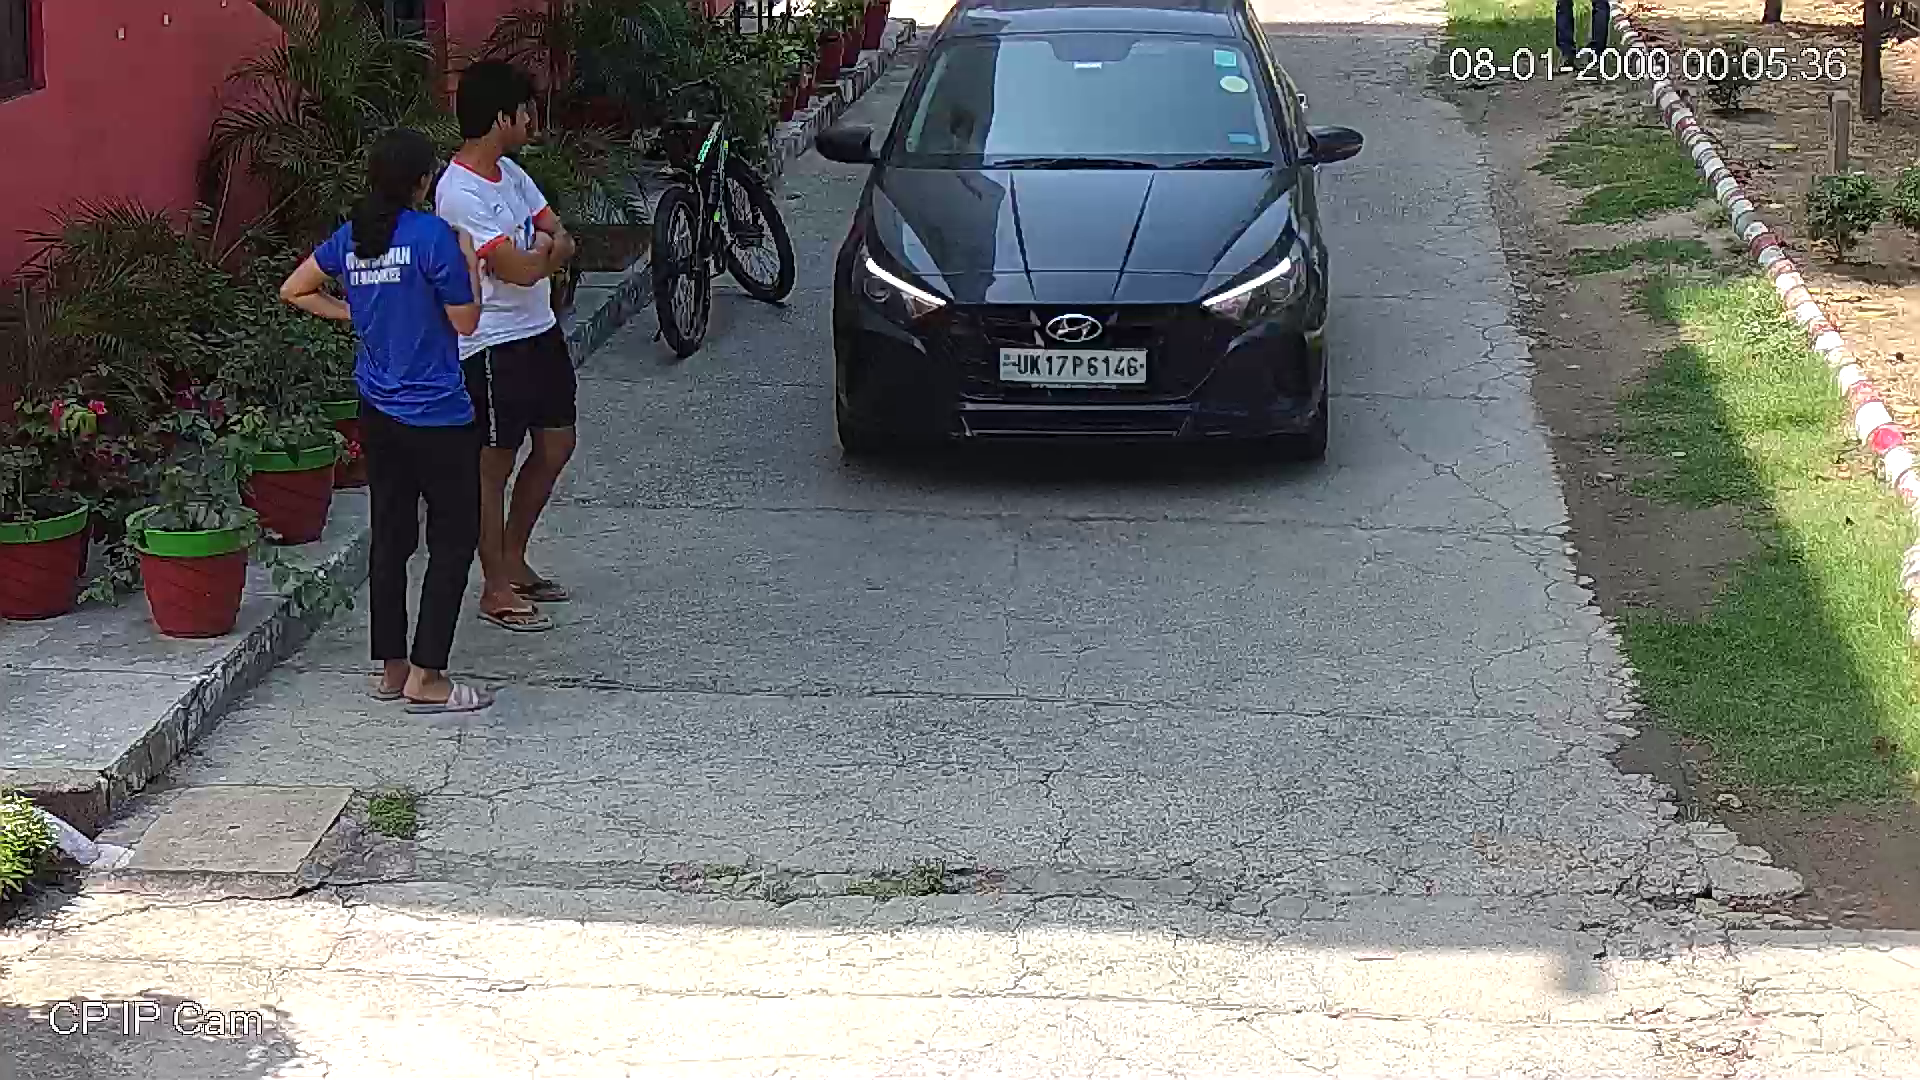plate: (994, 343, 1150, 386)
